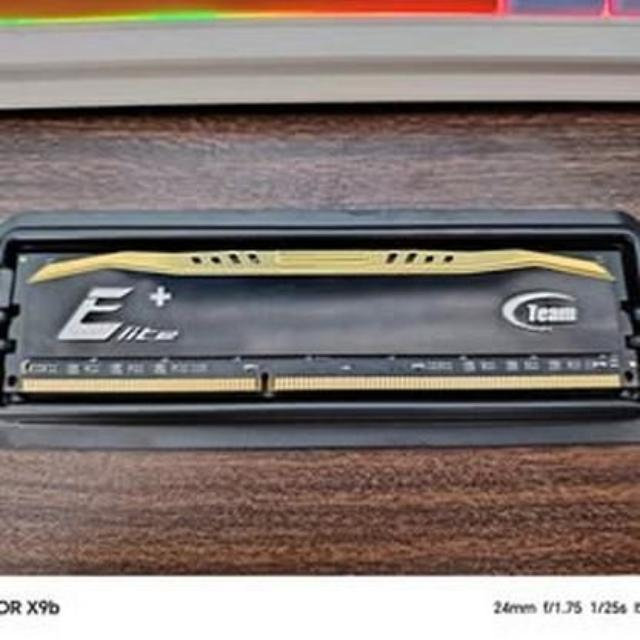RAM: (0, 236, 640, 394)
